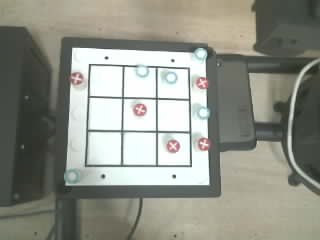blue circle: (64, 169, 80, 183), (135, 65, 148, 77), (194, 48, 207, 60), (197, 106, 209, 119), (164, 72, 177, 83)
board: (65, 48, 211, 185)
cells: (87, 132, 120, 164), (88, 98, 122, 129), (158, 133, 190, 165), (90, 66, 123, 97), (123, 133, 155, 164), (123, 99, 155, 130), (158, 100, 189, 131), (158, 68, 189, 98), (124, 67, 155, 97)
grid: (85, 64, 191, 166)
red cross: (167, 139, 180, 153), (70, 72, 83, 85), (196, 77, 209, 89), (198, 137, 210, 150), (133, 104, 146, 115)
